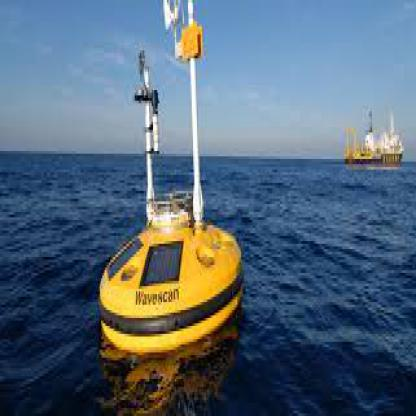buoy: (104, 0, 246, 358)
